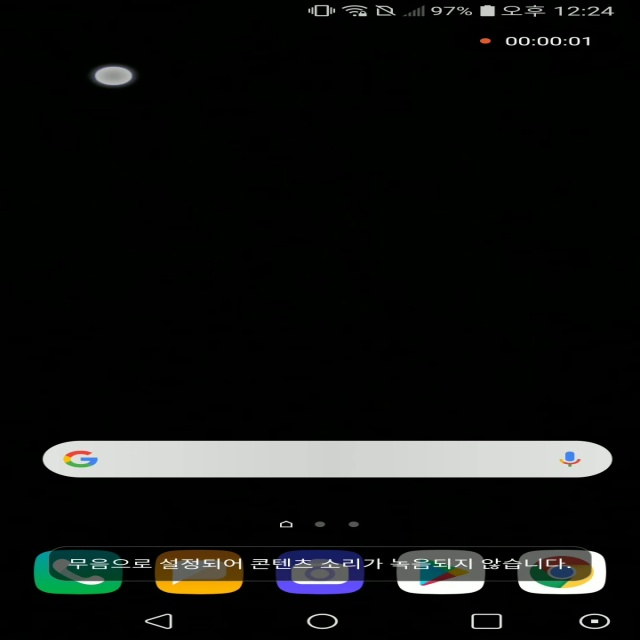Cursor: (92, 66, 136, 88)
